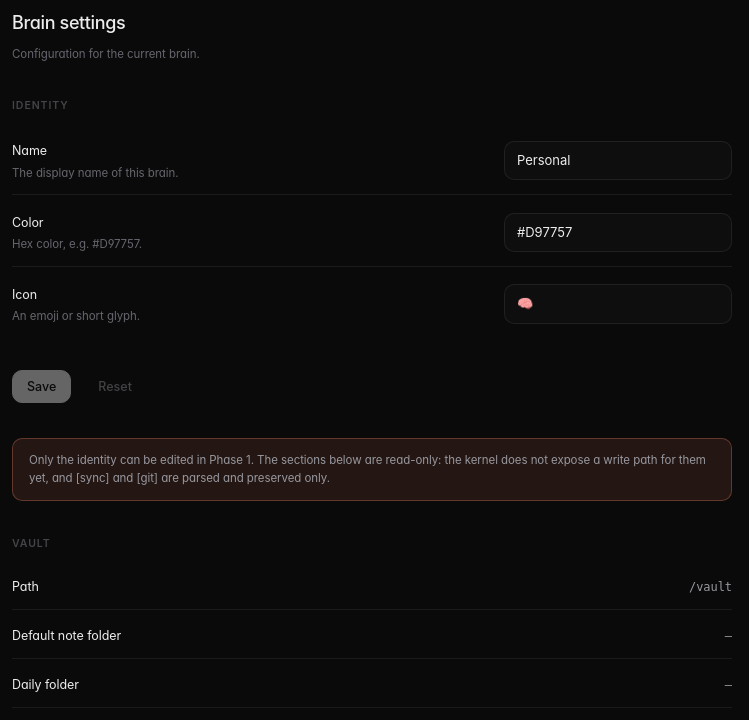
Test: BrainSettings › surfaces a save error
Replace the text in the field labelled "Name" with "Work" at [618, 161], box 504,141 -> 732,180
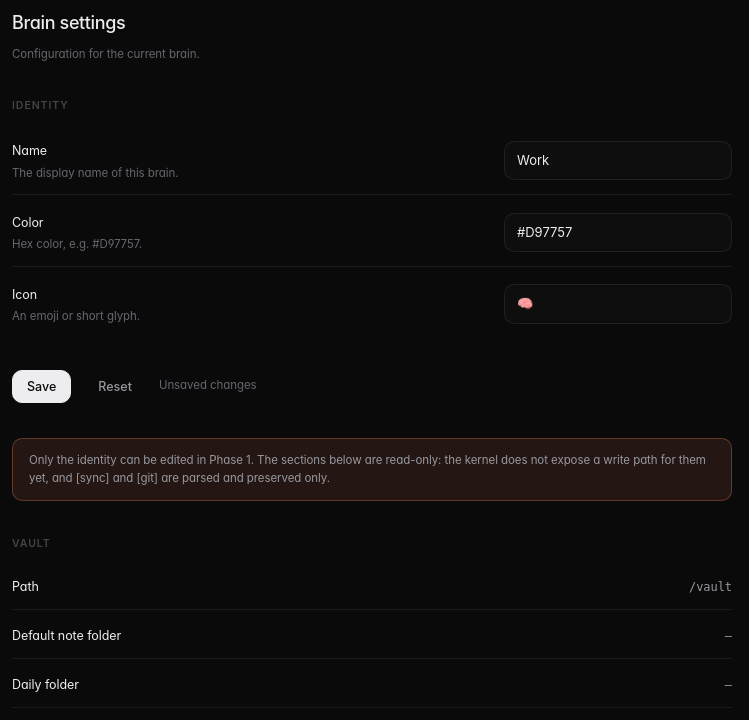
Click the button "Save" at [42, 386], box 12,370 -> 71,403
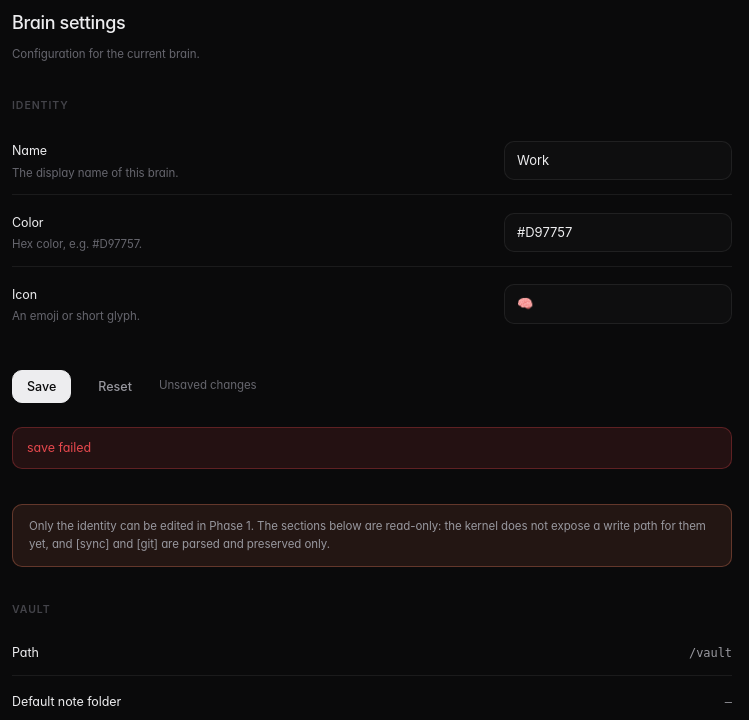
expect the button "Save" is enabled: met, box 12,370 -> 71,403
expect the text "save failed" is shown: met, box 12,427 -> 732,469
